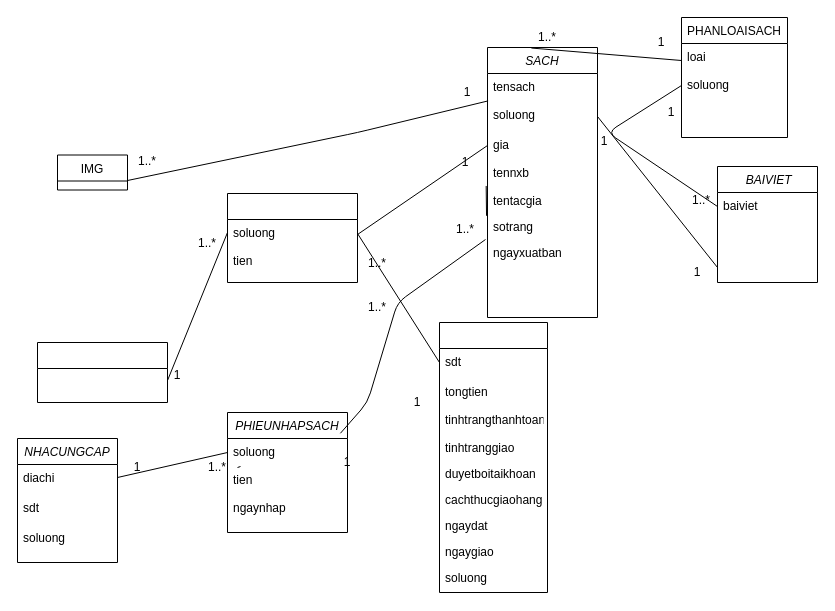
Some shapes in this 835 by 611 pixel diagram are drawn without their labels. The shapes that lost their labels are listed below. From the top down, each one's box as (x1, y1, x2, y2) in pixels, then its label:
(226, 192, 358, 282): CHITITETDONHANG
(36, 342, 168, 402): GIOHANG
(438, 322, 548, 592): DONHANG
